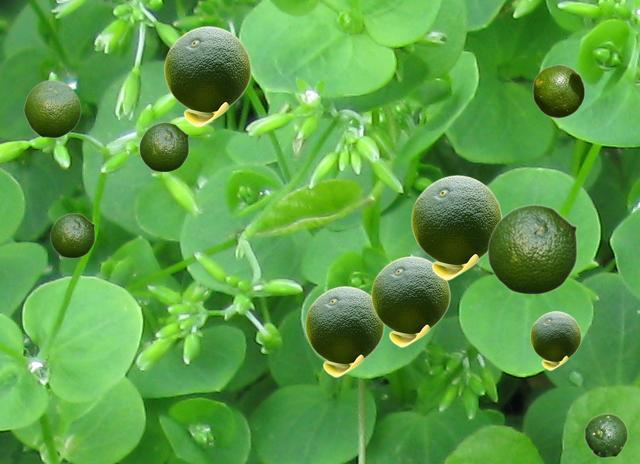calamansi: (411, 175, 501, 279), (164, 26, 250, 126), (487, 204, 577, 294), (305, 286, 383, 376), (371, 256, 449, 346), (23, 79, 80, 137), (530, 311, 580, 369), (532, 64, 584, 117), (139, 122, 188, 171), (50, 213, 94, 257), (584, 413, 627, 457)
